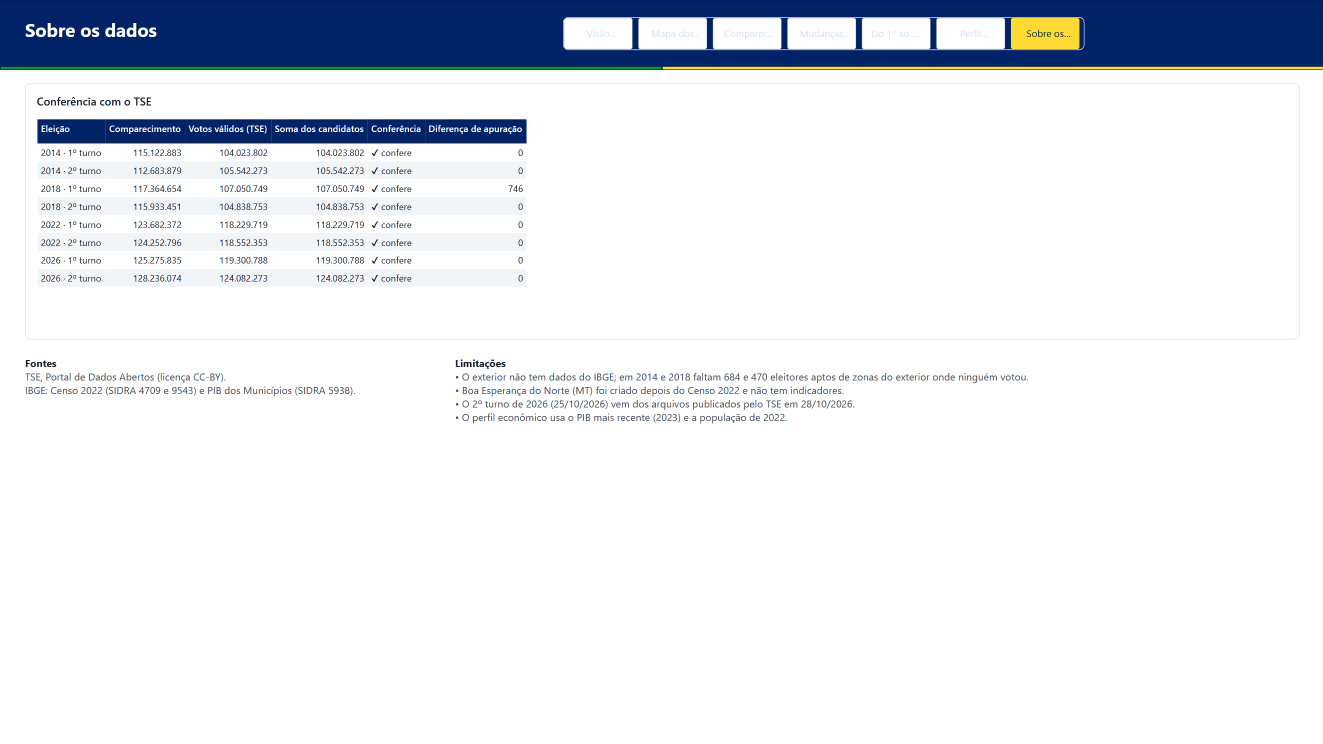

The page's visual inventory and layout, read from the dashboard file:
{"tool":"powerbi","page":{"name":"Sobre os dados","canvas":[1920,1080],"ordinal":6},"visuals":[{"type":"shape","box":[0,0,1920,96],"z":0},{"type":"shape","box":[0,96,960,6],"z":1000},{"type":"shape","box":[960,96,960,6],"z":2000},{"type":"pageNavigator","box":[816,24,756,48],"z":4000},{"type":"textbox","box":[36,24,756,48],"z":4001},{"type":"tableEx","title":"Conferência com o TSE","fields":{"Values":["dTurno.rotulo_turno","_Medidas.Comparecimento","_Medidas.Votos Válidos","_Medidas.Votos Todos os Candidatos","_Medidas.Conferência Válidos","_Medidas.Diferença de Apuração"]},"box":[36,120,1848,372],"z":4002},{"type":"textbox","box":[36,516,600,228],"z":4003},{"type":"textbox","box":[660,516,1224,228],"z":4004}]}

Visuals, with their boxes in screenshot pixels (x1, y1, x2, y2), scaled from the page's 1920x1080 canvas onto the 1323x744 screenshot:
shape: detection(0, 0, 1322, 66)
shape: detection(0, 66, 662, 70)
shape: detection(662, 66, 1322, 70)
pageNavigator: detection(562, 17, 1083, 50)
textbox: detection(25, 17, 546, 50)
"Conferência com o TSE" tableEx: detection(25, 83, 1298, 339)
textbox: detection(25, 355, 438, 513)
textbox: detection(455, 355, 1298, 513)
